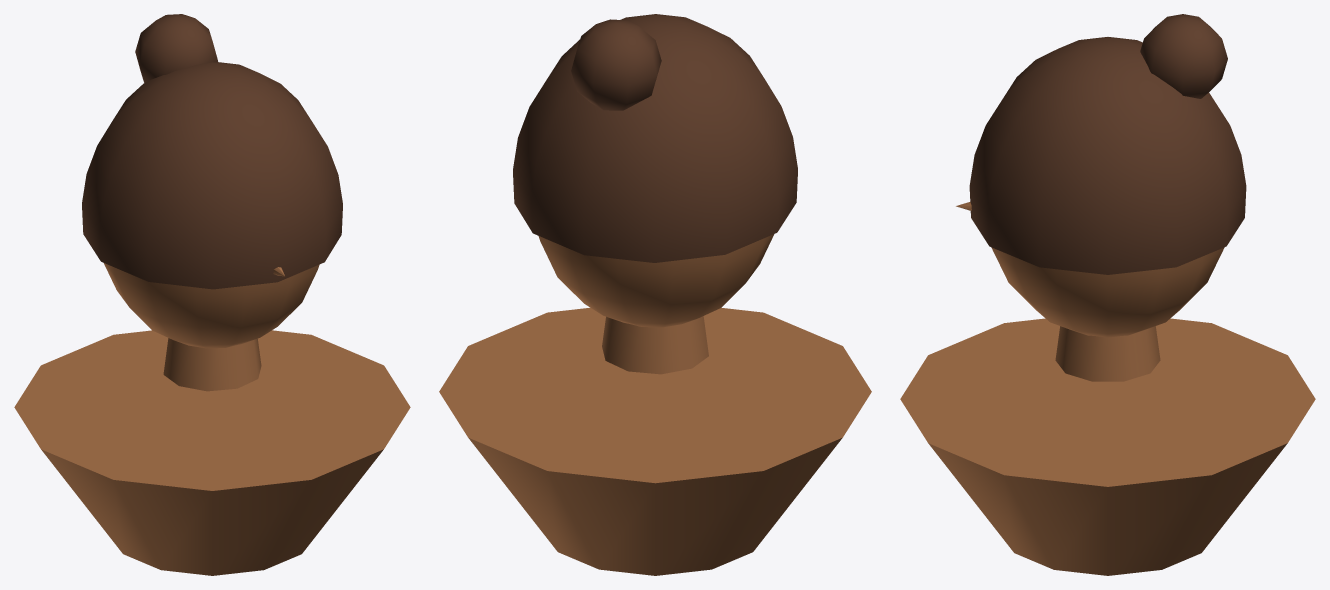
Rendered from raw_001.glb.
3 views of the same model, side by side, from view 1: azimuth 30°, elevation 25°; view 2: azimuth 150°, elevation 25°; view 3: azimuth 270°, elevation 25° (orthographic). The views are drawn at different scales.
Size of the model in its own units: 1.66 by 2.26 by 1.66.
